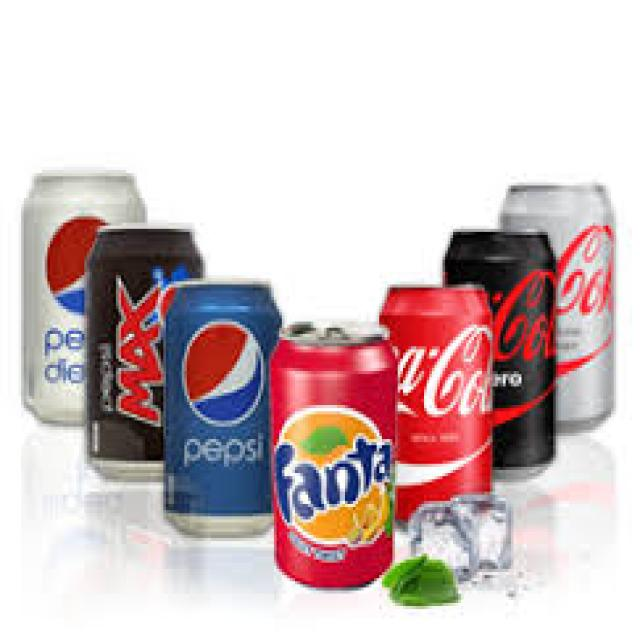Cans: (263, 312, 403, 594), (153, 269, 279, 538), (382, 284, 500, 514), (76, 217, 168, 482)
